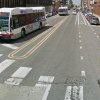crosswalk: (0, 53, 83, 100)
